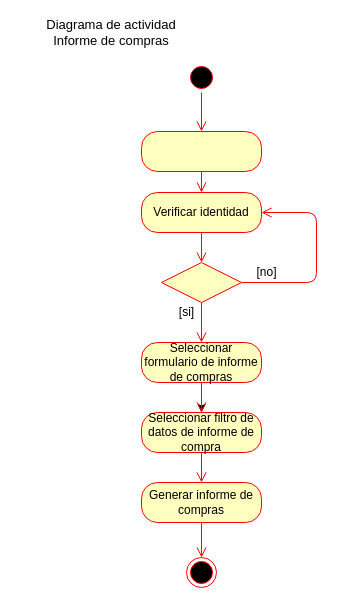
Image size: 345x605. Some labels were removed from this diagram. The centre of each missing label's shape, as x and y in pixels:
Acceder al sistema: the point at 201,151
usuario válido: the point at 201,282
